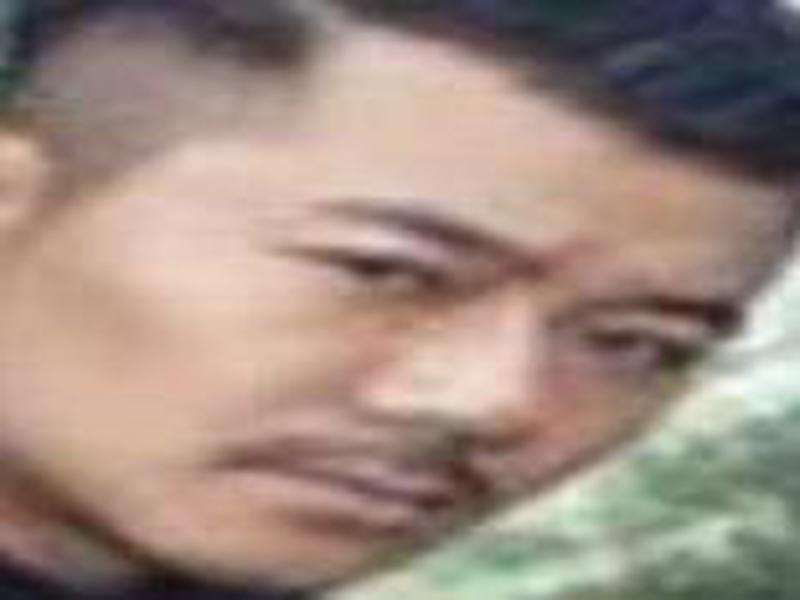without_mask: (10, 4, 795, 593)
